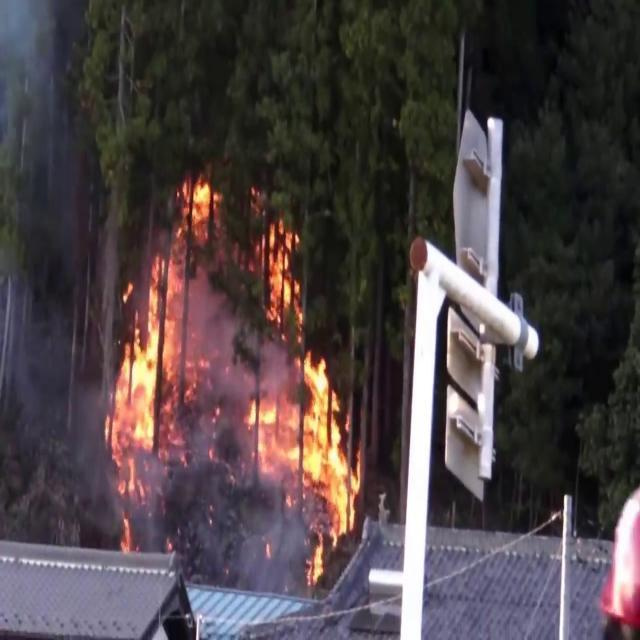Fire: (99, 163, 232, 546), (250, 208, 363, 560)
Smoke: (0, 1, 106, 515)
